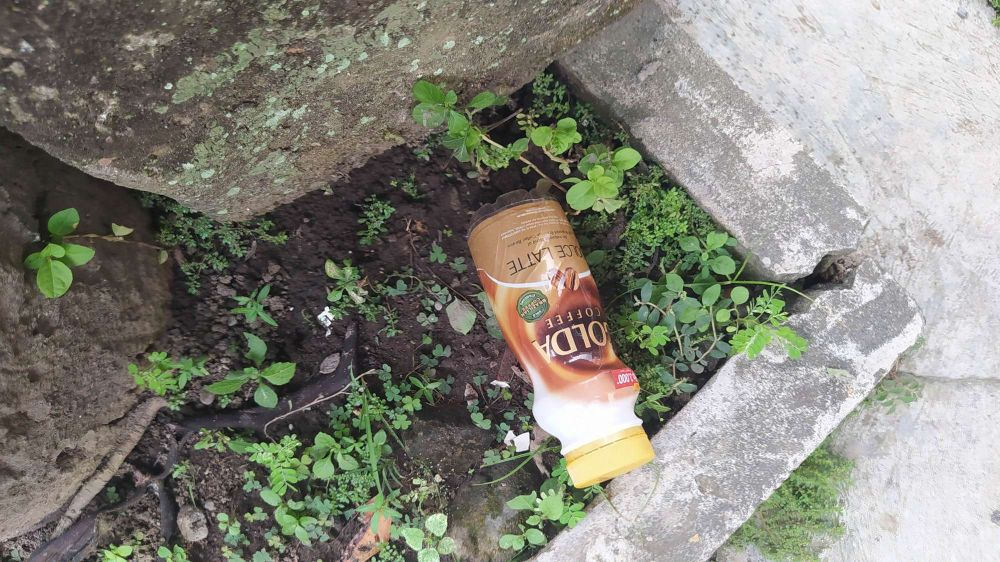botol: (446, 194, 672, 490)
